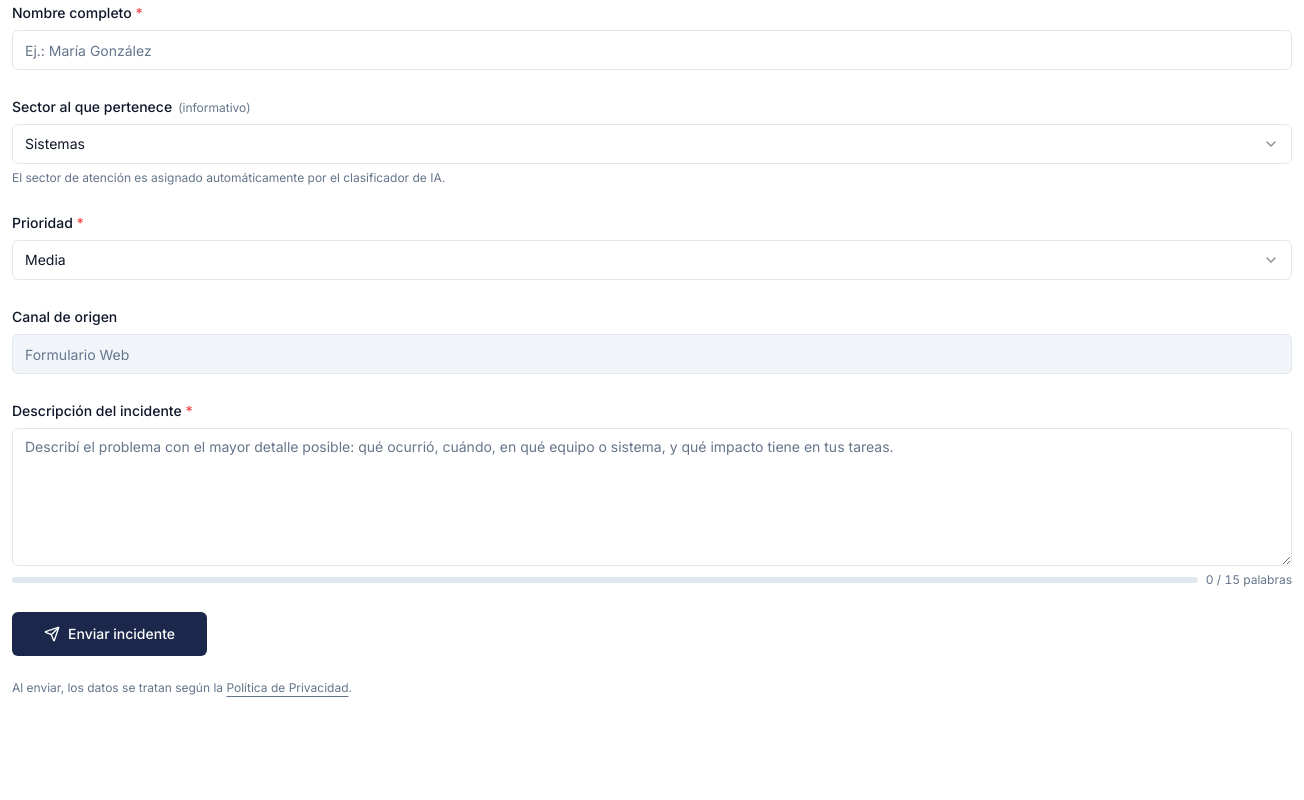
Test case: IncidenteForm › muestra error de validación cuando el nombre está vacío
No completar nombre, completar descripción válida
In the text box labelled "Descripción del incidente *": x=652, y=497 [12,428,1292,566], type "El servidor de base de datos no responde desde las ocho de la mañana de hoy."
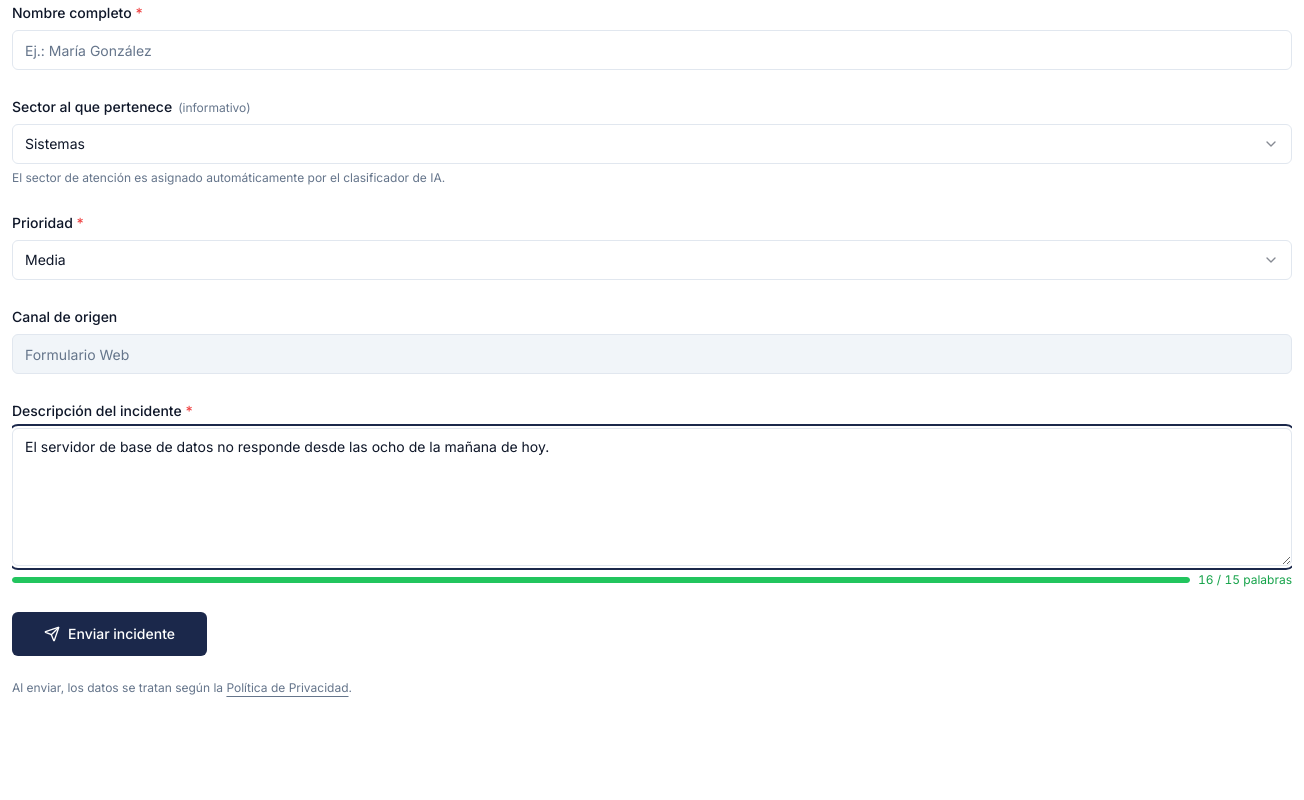
Click the button "Enviar incidente": x=110, y=634 [12,612,207,656]
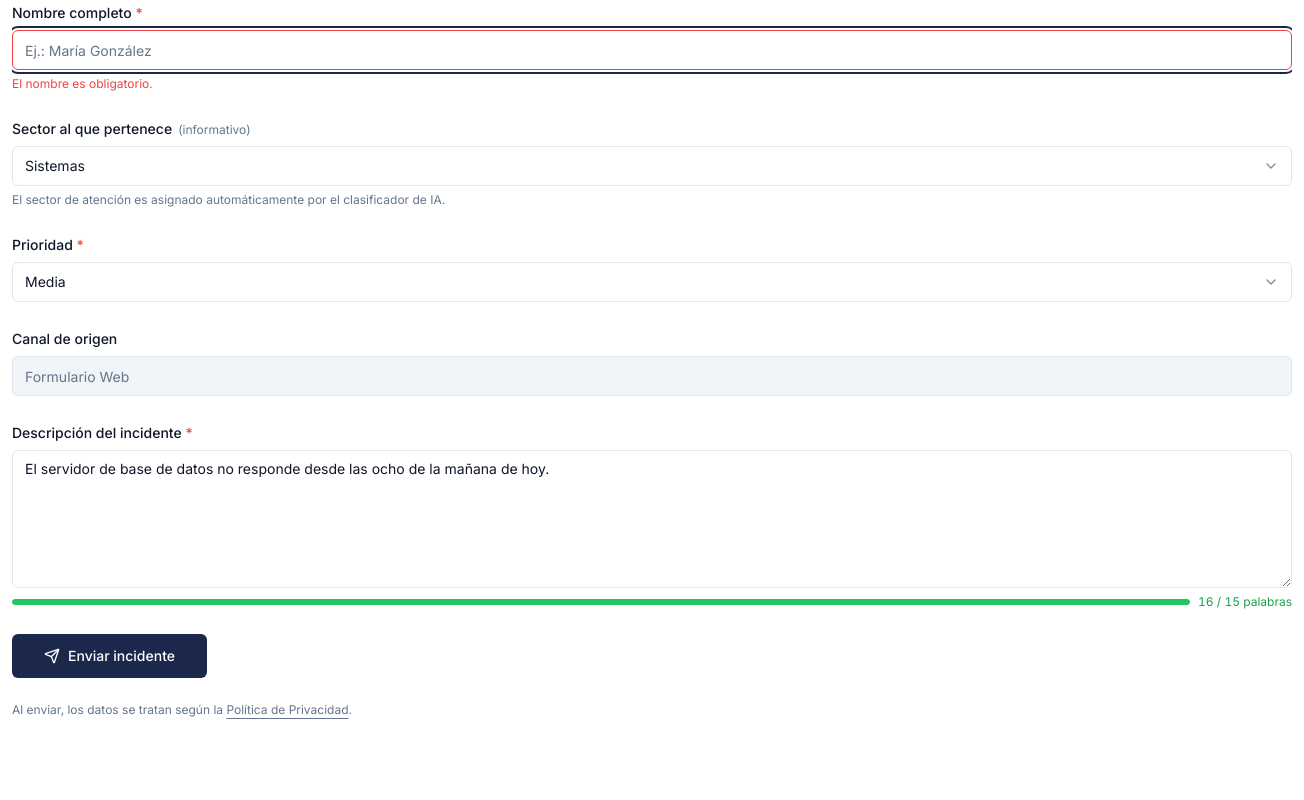
Result: the text "El nombre es obligatorio." is shown at [12,76,153,91]
